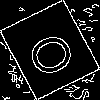O: (24, 25, 86, 81)
